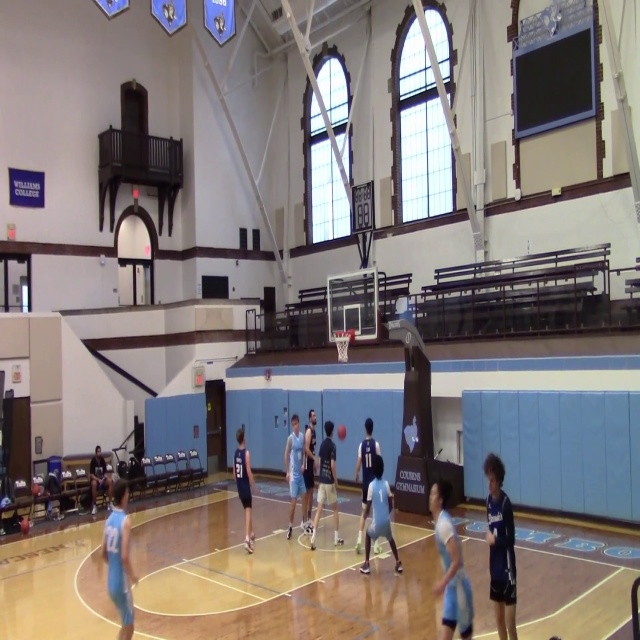Basketball: (337, 424, 346, 440), (31, 484, 40, 495), (255, 486, 261, 493)
